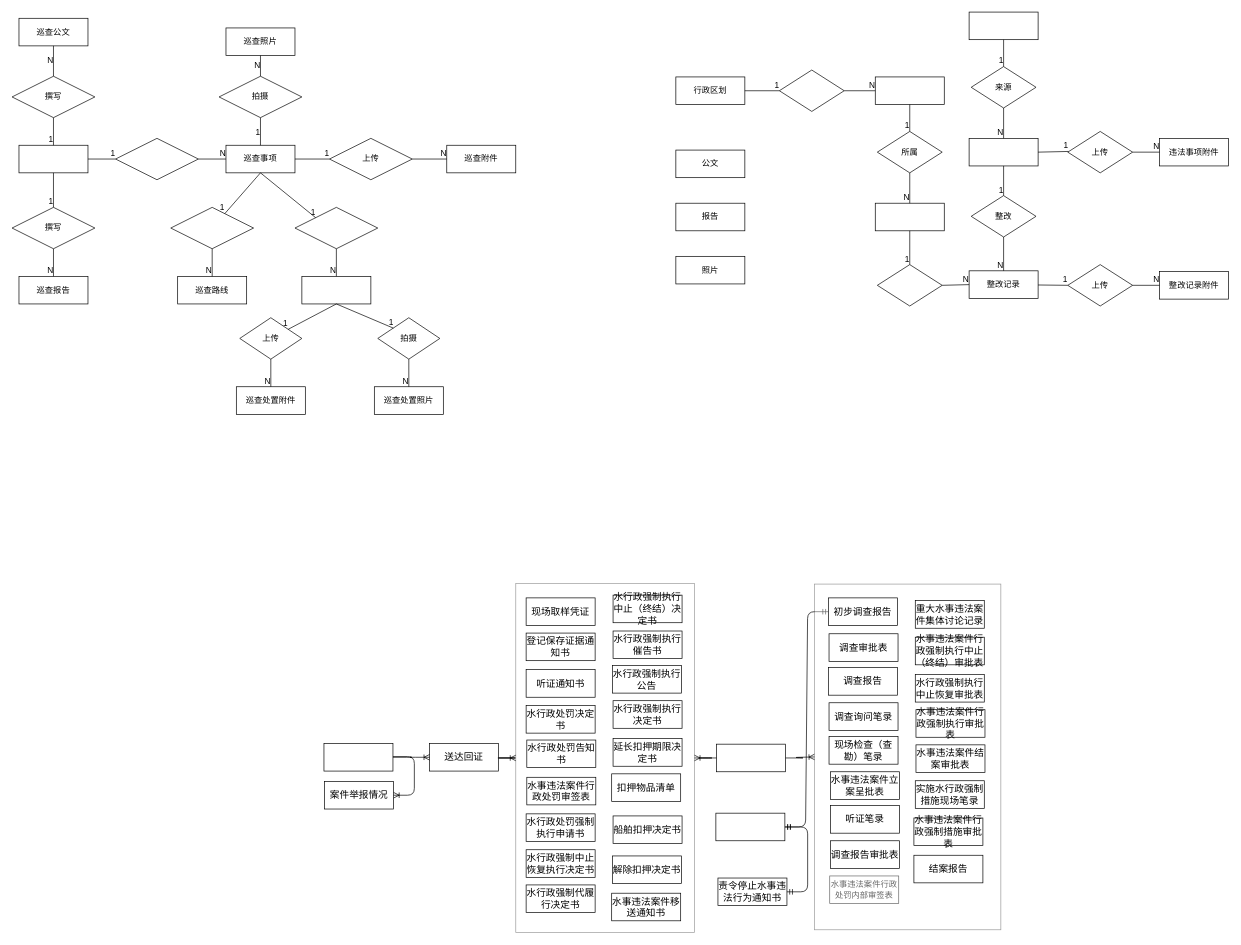
This 1241x945 diagram has some shape labels left out. The centre of each missing label's shape, as x and y in pixels:
"初始业务记录" goes at (x=751, y=757).
"发现" goes at (x=156, y=159).
"处理" goes at (x=336, y=228).
"巡查处置记录" goes at (x=336, y=290).
"巡查记录" goes at (x=53, y=159).
"执法活动" goes at (x=909, y=217).
"拥有" goes at (x=811, y=90).
"案件举报记录" goes at (x=358, y=757).
"案件记录" goes at (x=750, y=826).
"水库" goes at (x=909, y=90).
"行走" goes at (x=212, y=228).
"记录" goes at (x=909, y=285).
"违法事项" goes at (x=1003, y=152).
"违法事项来源" goes at (x=1003, y=25).
